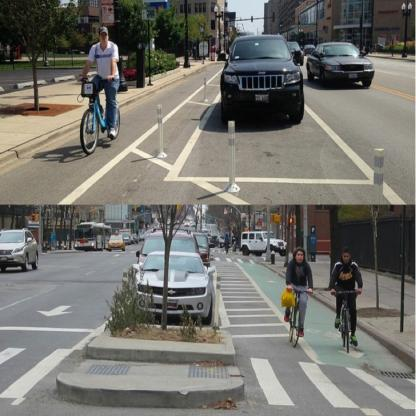Car: (109, 219, 290, 327), (216, 32, 311, 124), (308, 42, 377, 88), (1, 228, 40, 275), (287, 41, 305, 66), (305, 45, 317, 55), (374, 46, 384, 53)
